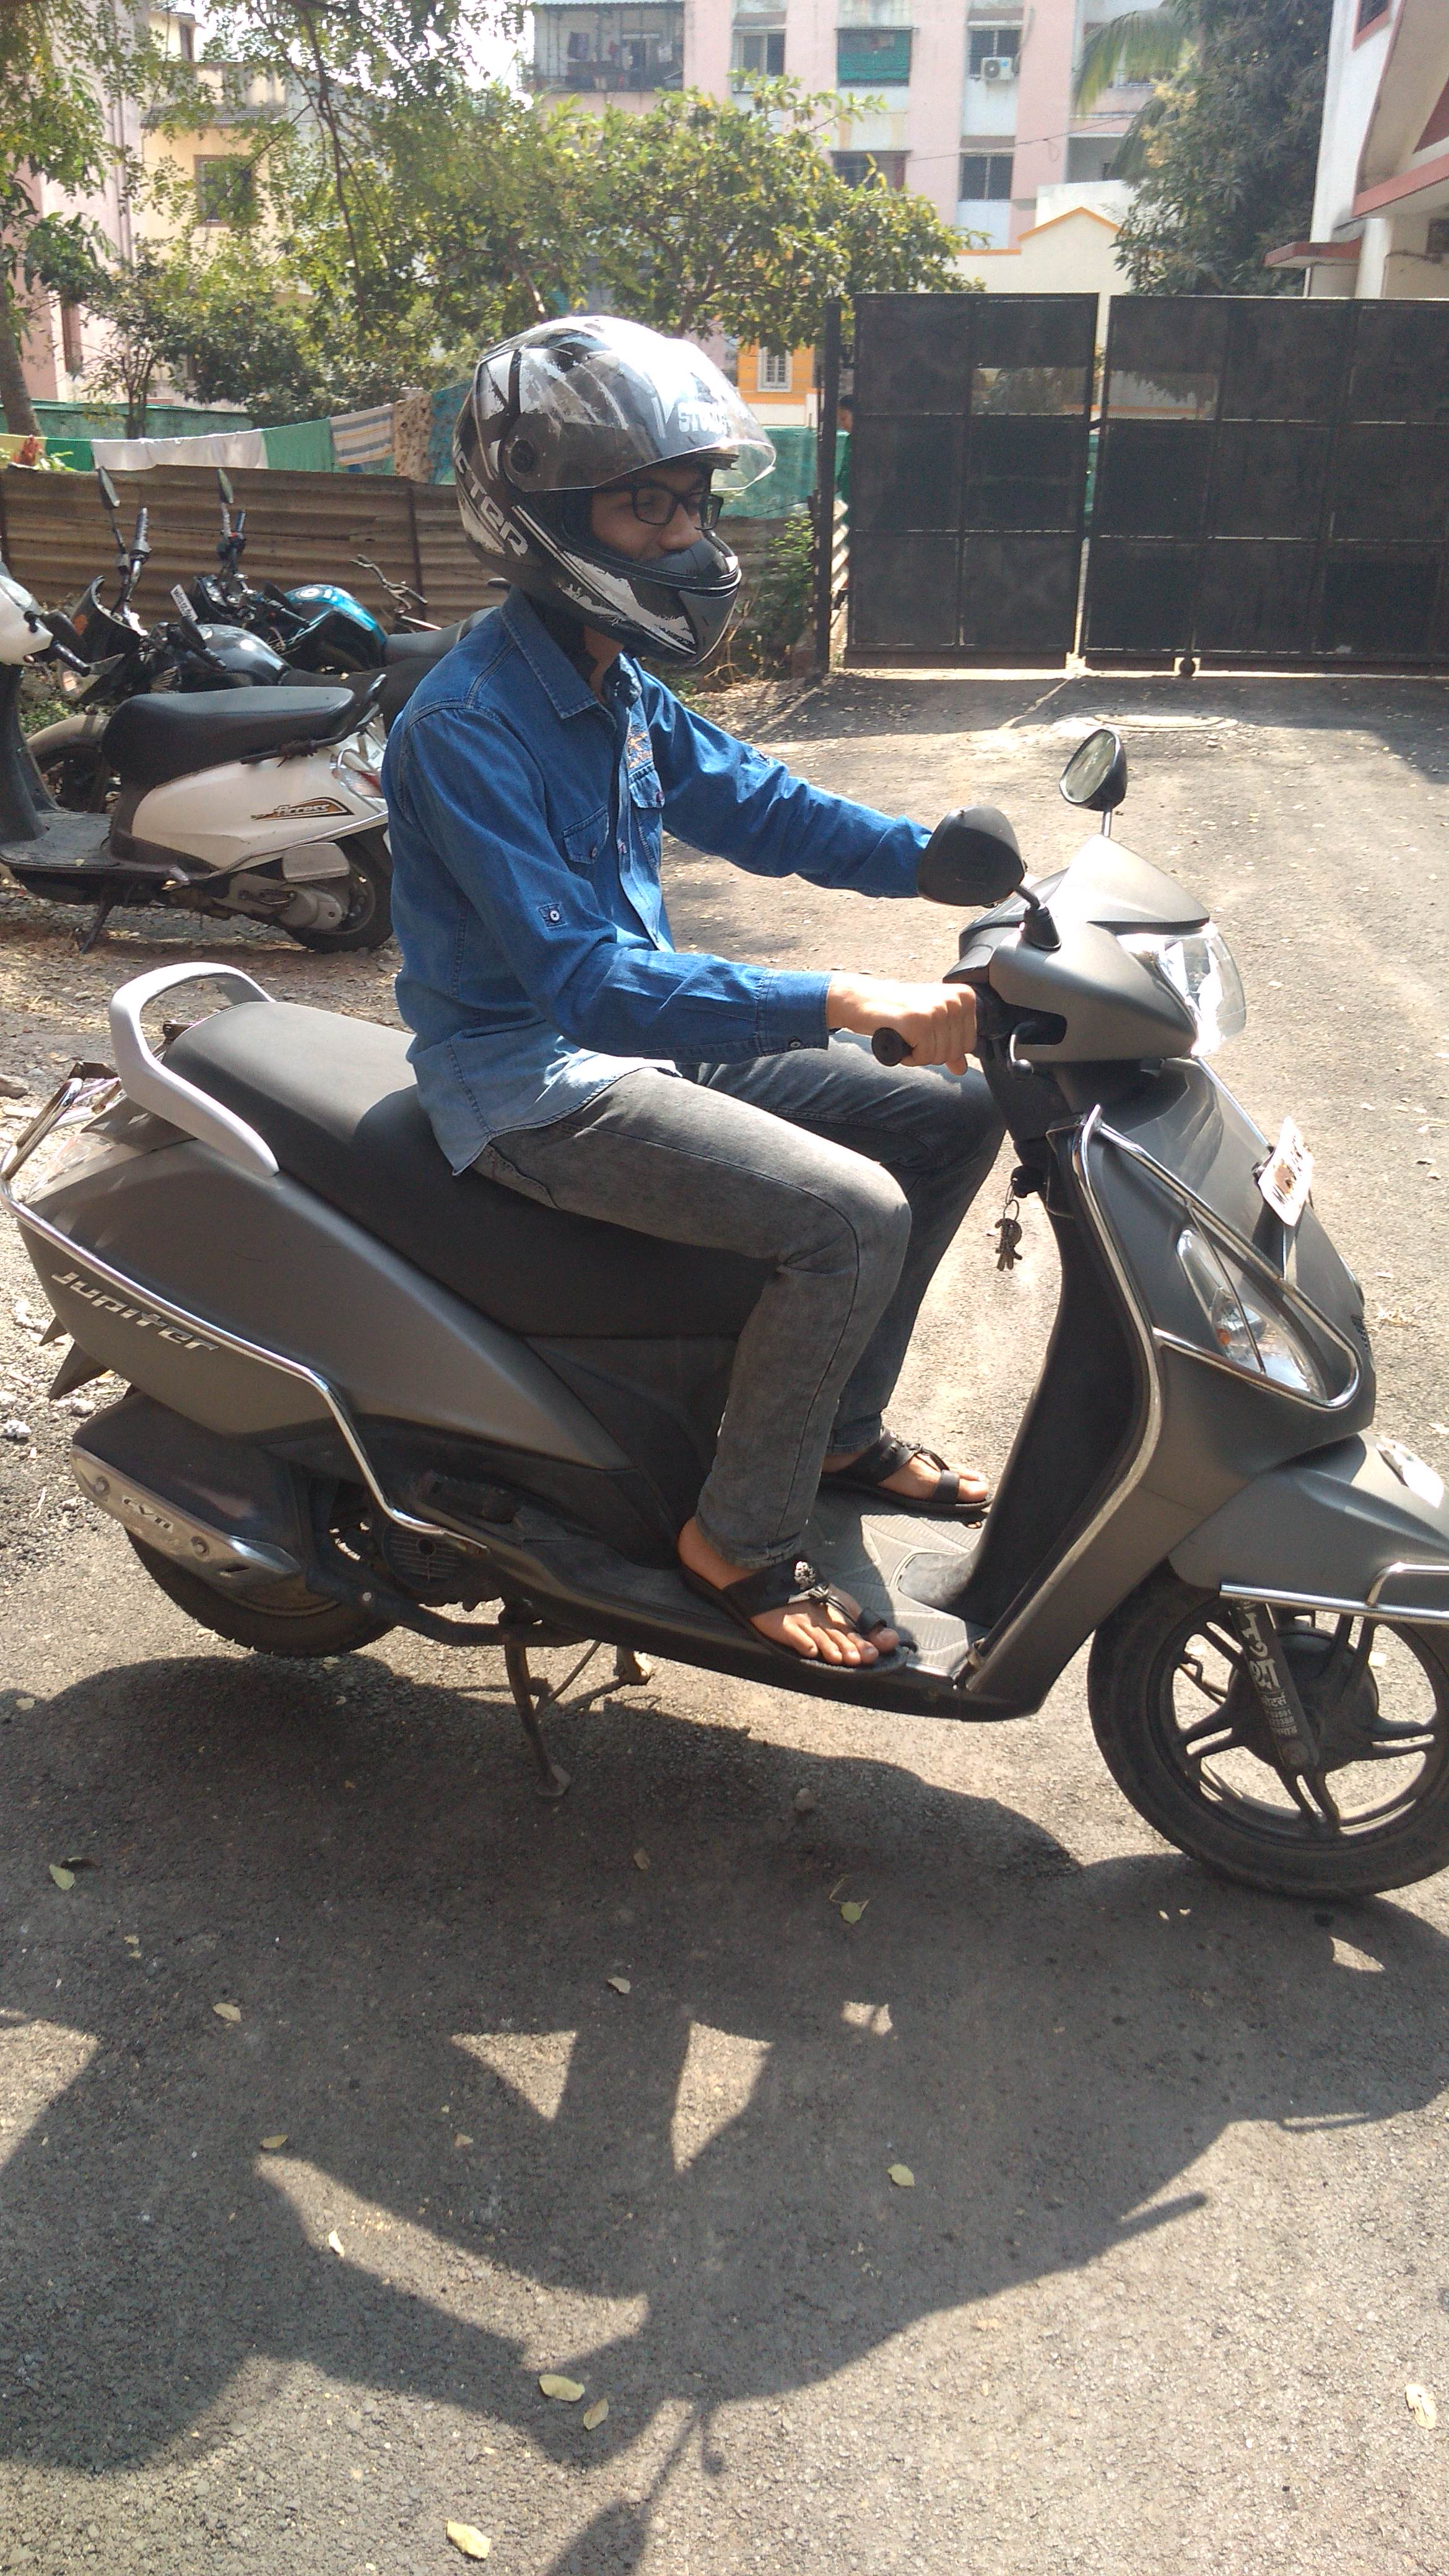helmet: (395, 285, 1063, 1353)
